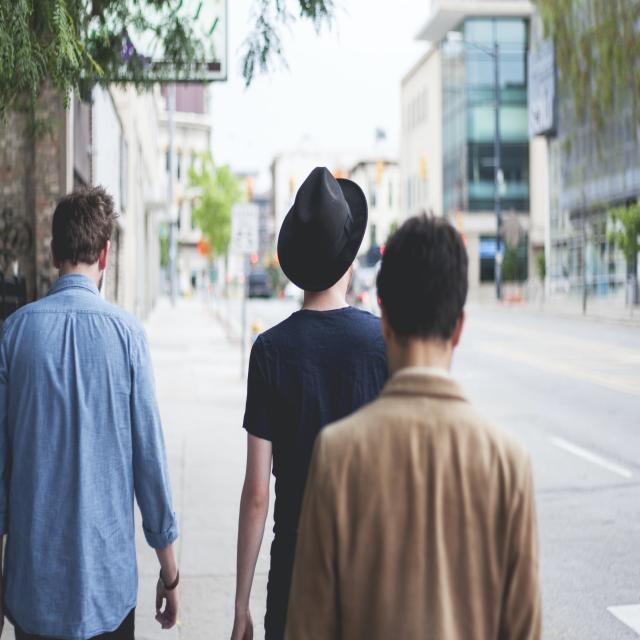adult: (289, 208, 546, 640), (1, 187, 182, 640), (229, 164, 398, 640)
